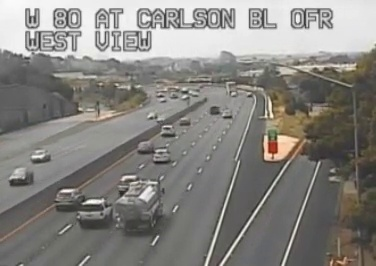car: (78, 198, 112, 220), (55, 188, 83, 209), (117, 175, 139, 191), (152, 149, 170, 163), (160, 125, 175, 137), (137, 142, 152, 152)
tank-truck: (115, 179, 161, 231)
